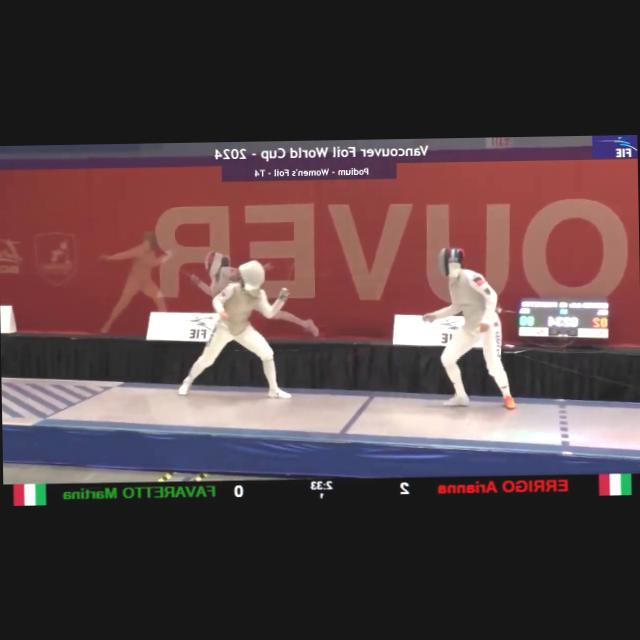blade: (345, 316, 428, 358), (276, 252, 298, 298)
